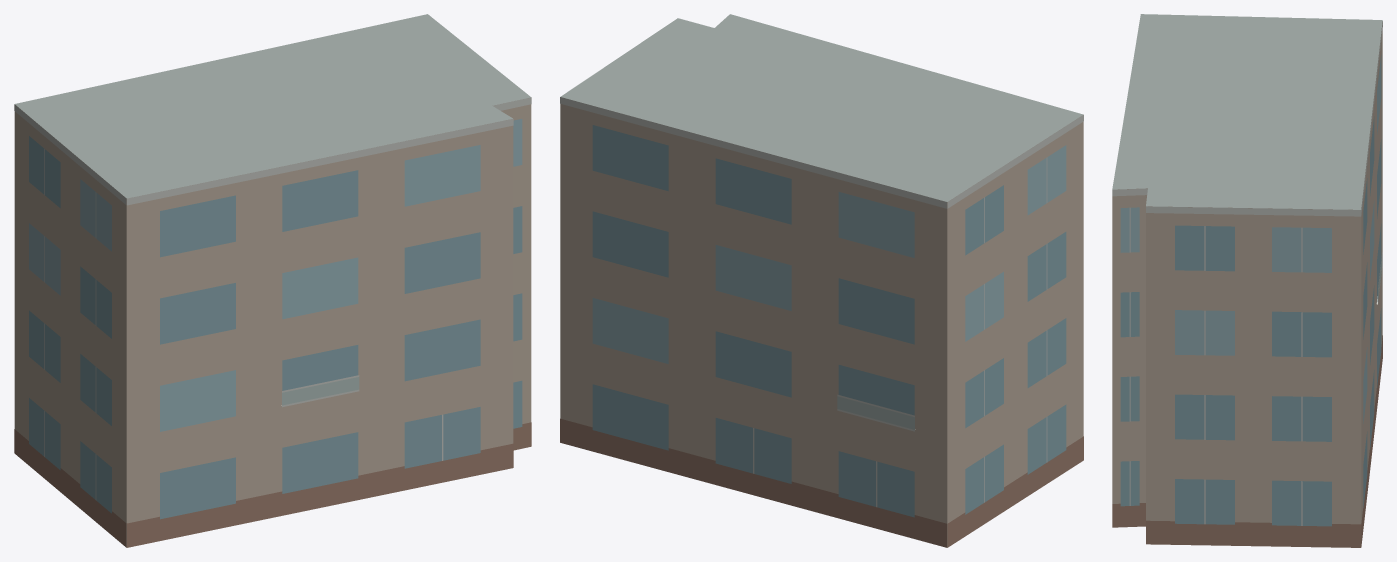
The model's file is survey-upis-32614160.glb.
The picture shows the model from 3 angles, left to right: view 1: azimuth 30°, elevation 25°; view 2: azimuth 150°, elevation 25°; view 3: azimuth 270°, elevation 25°; orthographic projection. The views are drawn at different scales.
Visible parts, largest first — view 1: survey-upis-32614160.tmp; view 2: survey-upis-32614160.tmp; view 3: survey-upis-32614160.tmp.
Part boxes in pixels (box(x1,y1,x2,y2)): survey-upis-32614160.tmp: box(14, 14, 531, 547); survey-upis-32614160.tmp: box(560, 14, 1083, 547); survey-upis-32614160.tmp: box(1112, 14, 1382, 547).
Size of the model in its own units: 15.36 by 12.35 by 8.97.
